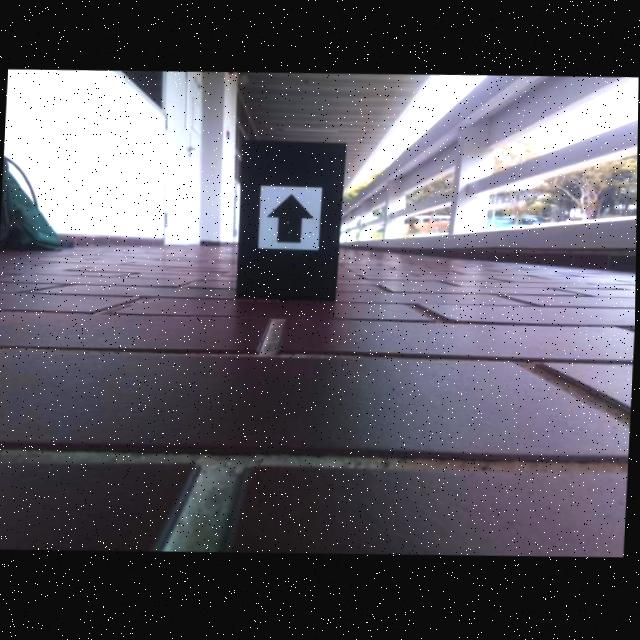UP: (266, 195, 315, 245)
